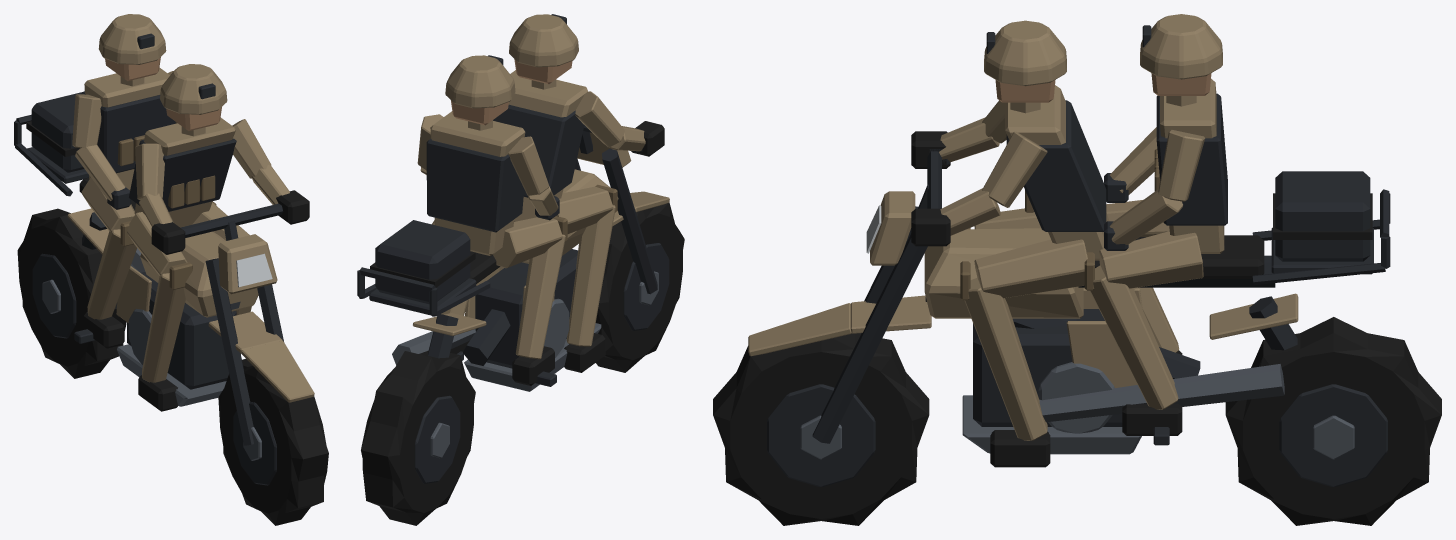
Rendered from moto-recon.glb.
3 views of the same model, side by side, from view 1: azimuth 30°, elevation 25°; view 2: azimuth 150°, elevation 25°; view 3: azimuth 270°, elevation 25° (orthographic). The views are drawn at different scales.
Visible parts, largest first — view 1: casco, wheel_F, wheel_B; view 2: casco, wheel_B, wheel_F; view 3: casco, wheel_B, wheel_F.
Part boxes in pixels (x1,y1,x2,y2): casco: (14,14,314,445); wheel_F: (218,359,328,525); wheel_B: (17,208,126,378); casco: (357,14,669,391); wheel_B: (361,350,475,525); wheel_F: (595,202,684,372); casco: (748,14,1390,467); wheel_B: (1225,317,1441,525); wheel_F: (713,333,929,525).
Bounding box in the file's own units: 0.294 × 0.745 × 0.9954.
